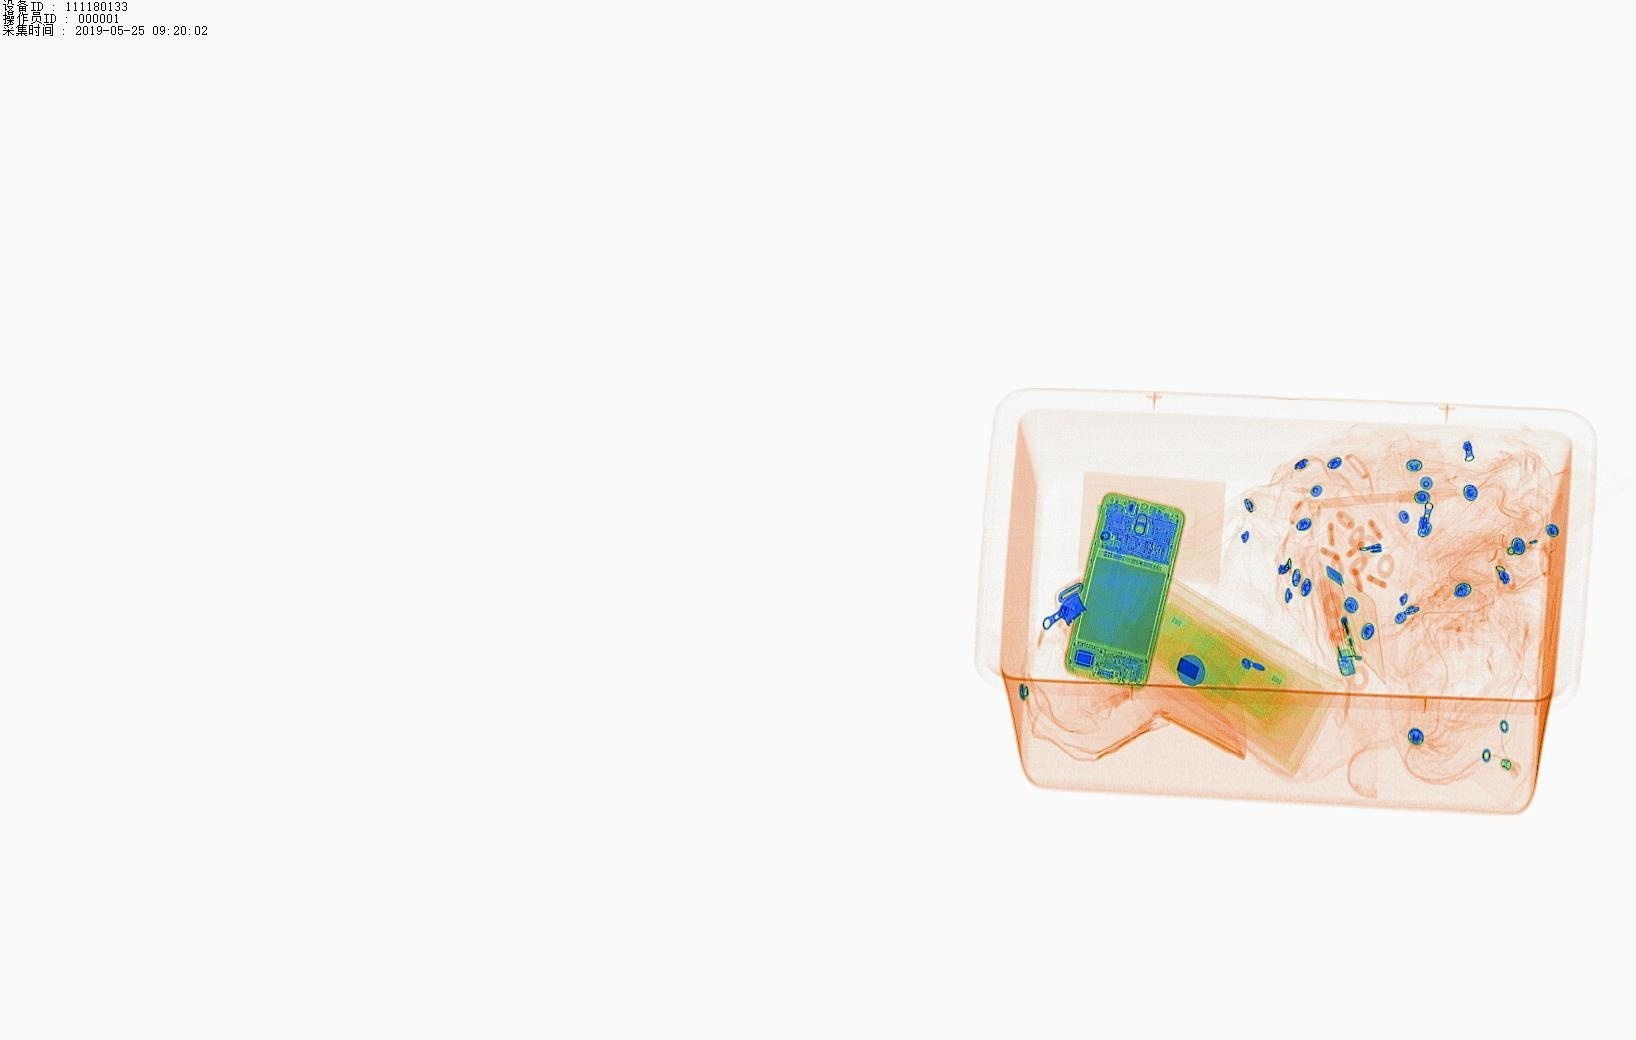NonmetallicFire: (1318, 565, 1365, 688)
